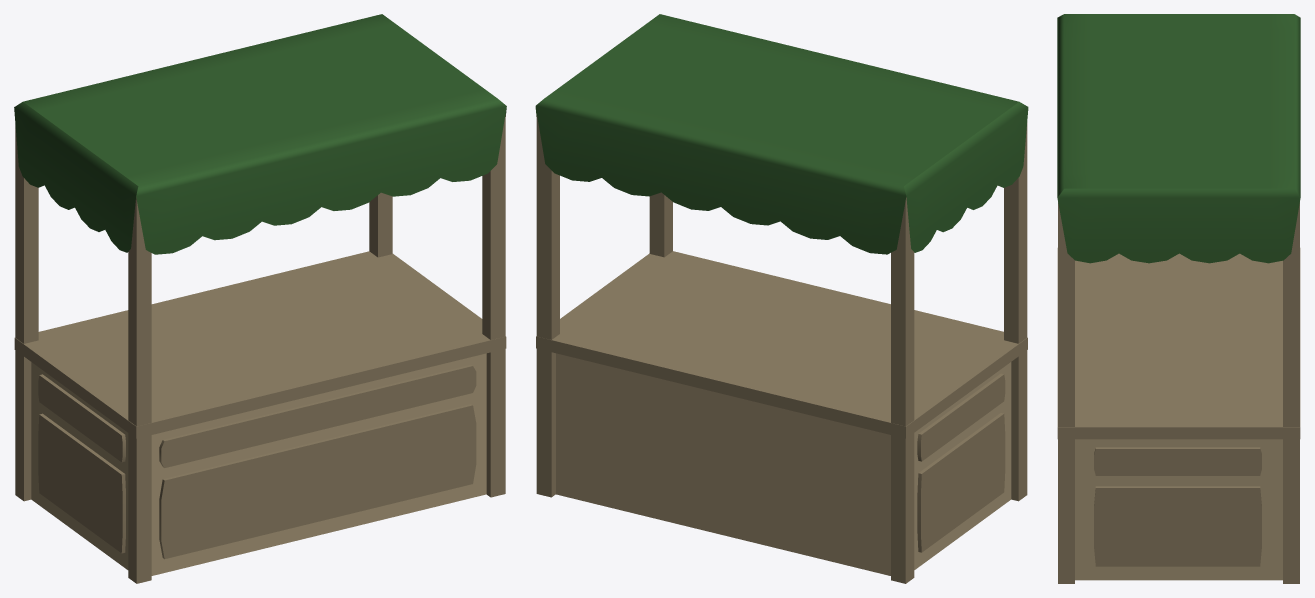
File: BakerStall.fbx
The picture shows the model from 3 angles, left to right: view 1: azimuth 30°, elevation 25°; view 2: azimuth 150°, elevation 25°; view 3: azimuth 270°, elevation 25°; orthographic projection.
Parts seen in each view (by area): view 1: BakerStall, BakerStall_Top; view 2: BakerStall, BakerStall_Top; view 3: BakerStall, BakerStall_Top.
Boxes of the visible parts, left/top/right/bottom form: BakerStall: left=14, top=114, right=506, bottom=583; BakerStall_Top: left=14, top=14, right=506, bottom=254; BakerStall: left=536, top=114, right=1027, bottom=583; BakerStall_Top: left=535, top=14, right=1028, bottom=254; BakerStall: left=1057, top=202, right=1300, bottom=583; BakerStall_Top: left=1057, top=14, right=1300, bottom=263.
Bounding box in the file's own units: 37.5 × 38.1 × 21.37.
